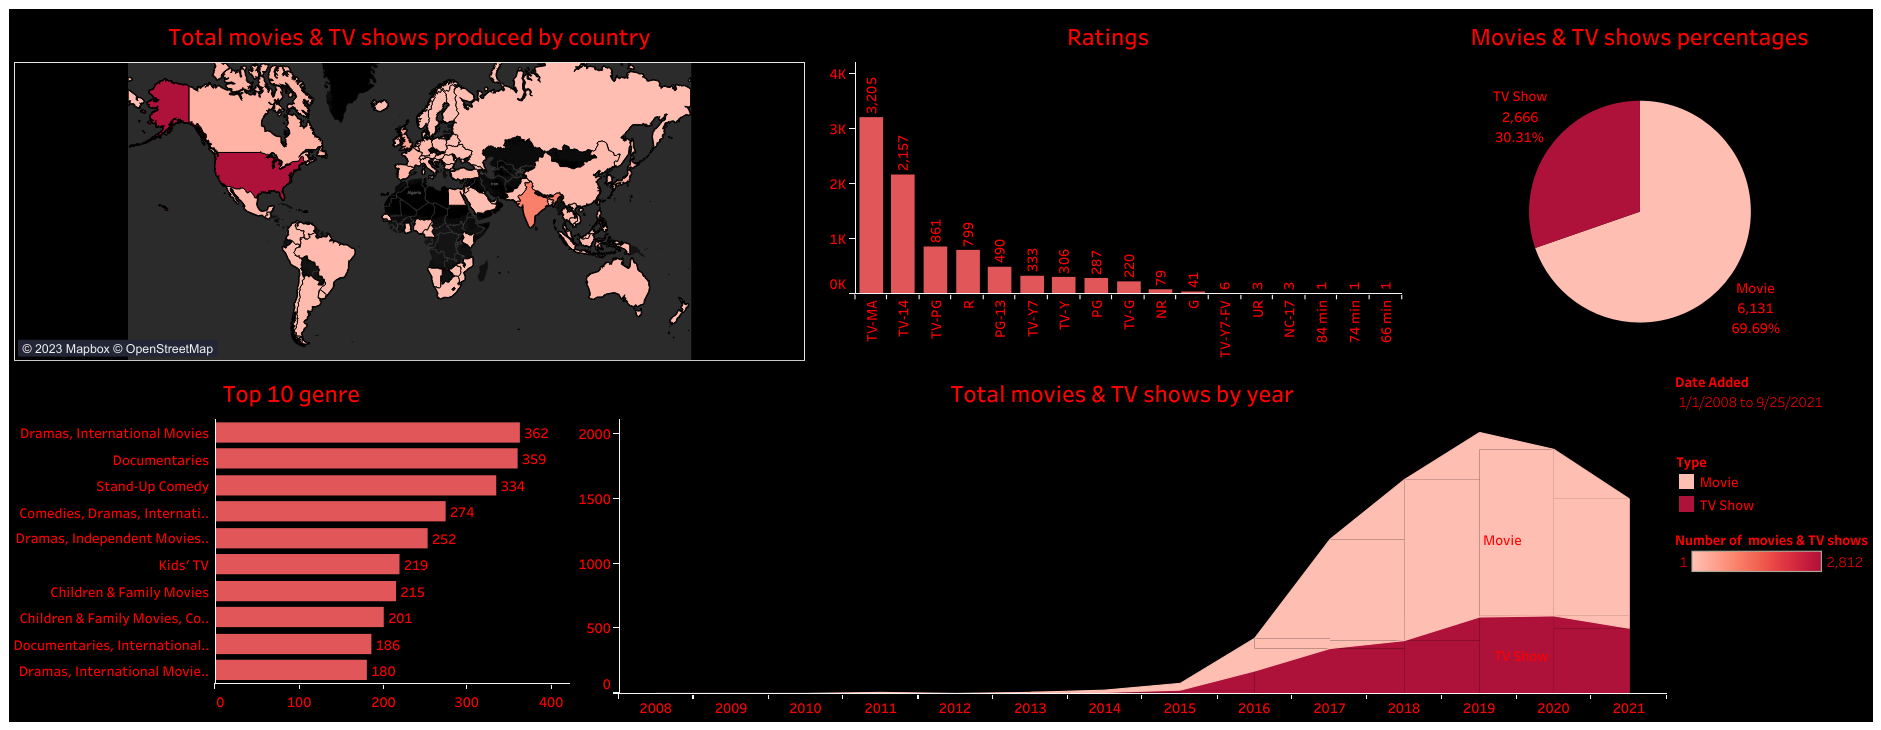

Layout of this report page (visuals, bound fields, positions):
{"tool":"tableau","page":{"name":"Netflix movies & TV shows","canvas":[1000,1000],"units":"permille","ordinal":0},"visuals":[{"type":"worksheet","title":"Total movies & TV shows by country","mark":"Multipolygon","box":[5.4,13,425,487]},{"type":"worksheet","title":"Ratings","mark":"Bar","rows":["show_id"],"cols":["rating"],"box":[430.4,13,316.7,487]},{"type":"worksheet","title":"Movies & TV shows percentages","mark":"Pie","box":[747.1,13,247.5,487]},{"type":"worksheet","title":"Top 10 genre","mark":"Automatic","rows":["listed_in"],"cols":["show_id"],"box":[5.4,500,338.3,487]},{"type":"worksheet","title":"Total movies & TV shows by year","mark":"Area","rows":["show_id"],"cols":["date_added"],"box":[343.7,500,529.7,487]},{"type":"filter","title":"Total movies & TV shows by year","param":"[federated.1q0d77715tt82019o0npy1bohf83].[none:date_added:qk]","box":[873.3,500,121.3,114]},{"type":"legend","title":"Total movies & TV shows by year","param":"[federated.1q0d77715tt82019o0npy1bohf83].[none:type:nk]","box":[873.3,614,121.3,109.1]},{"type":"legend","title":"Total movies & TV shows by country","param":"[federated.1q0d77715tt82019o0npy1bohf83].[ctd:show_id:qk]","box":[873.3,723.1,121.3,110.8]}]}

Visuals, with their boxes on the dashboard's canvas, which has no fixed pixel size, in thousandths of its width and height (x1, y1, x2, y2). These are canvas units, not pixel positions in the 1881x730 screenshot, which may show the page scaled, cropped or inside an application window:
"Total movies & TV shows by country" worksheet (Multipolygon marks): left=5, top=13, right=430, bottom=500
"Ratings" worksheet (Bar marks): left=430, top=13, right=747, bottom=500
"Movies & TV shows percentages" worksheet (Pie marks): left=747, top=13, right=995, bottom=500
"Top 10 genre" worksheet: left=5, top=500, right=344, bottom=987
"Total movies & TV shows by year" worksheet (Area marks): left=344, top=500, right=873, bottom=987
"Total movies & TV shows by year" filter: left=873, top=500, right=995, bottom=614
"Total movies & TV shows by year" legend: left=873, top=614, right=995, bottom=723
"Total movies & TV shows by country" legend: left=873, top=723, right=995, bottom=834
